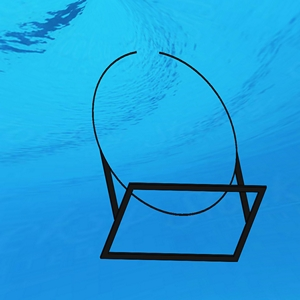circle: (88, 50, 270, 269)
